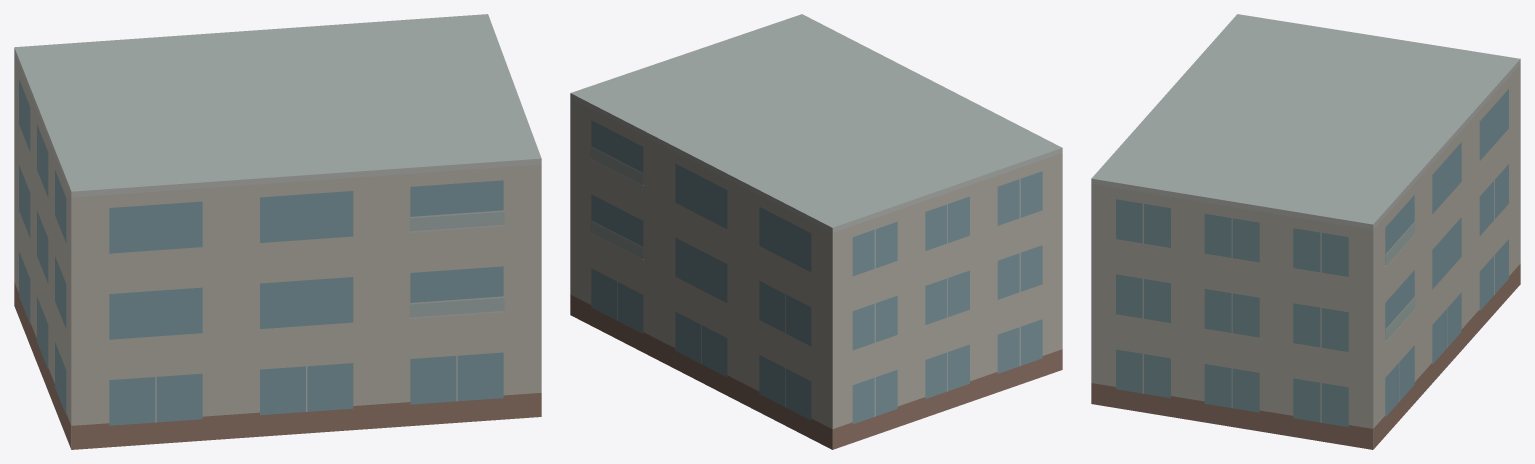
Rendered from survey-upis-32944587.glb.
3 renders of one model, left to right at view 1: azimuth 30°, elevation 25°; view 2: azimuth 150°, elevation 25°; view 3: azimuth 270°, elevation 25°, orthographic. The views are drawn at different scales.
Parts seen in each view (by area): view 1: survey-upis-32944587.tmp; view 2: survey-upis-32944587.tmp; view 3: survey-upis-32944587.tmp.
Boxes of the visible parts, box(x1,y1,x2,y2) form: survey-upis-32944587.tmp: box(14, 14, 541, 449); survey-upis-32944587.tmp: box(570, 14, 1062, 449); survey-upis-32944587.tmp: box(1091, 14, 1520, 449).
Bounding box in the file's own units: 21.15 × 10.55 × 18.23.
